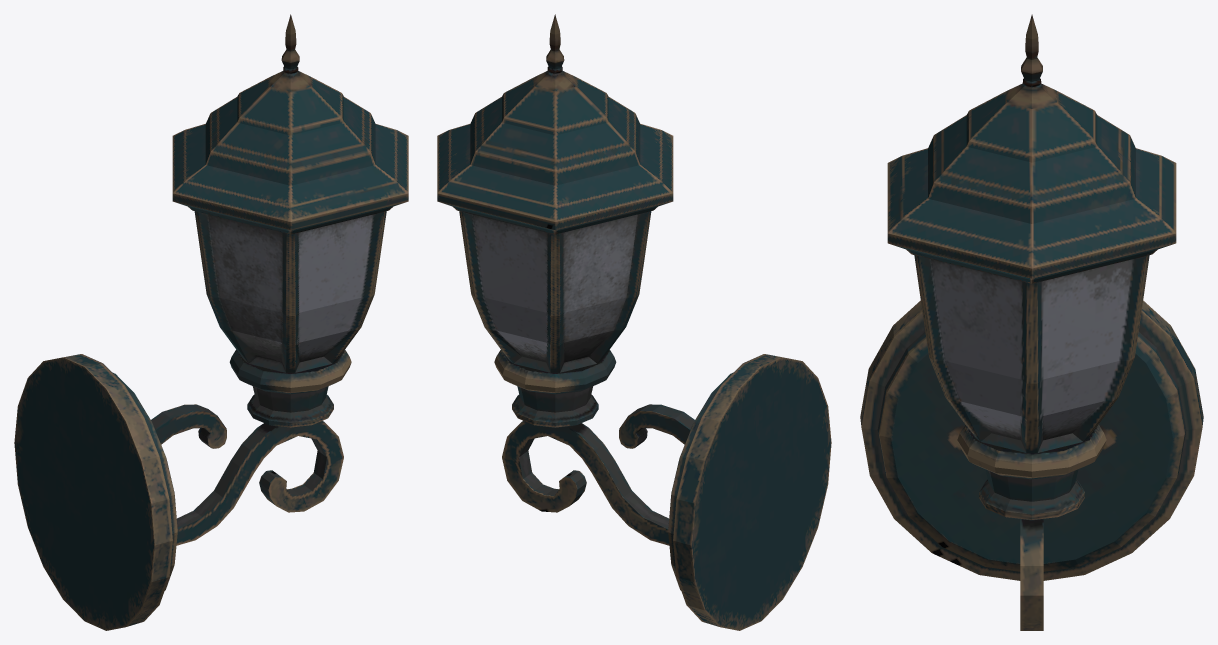
Rendered from SM_ECL_EntranceLights_01.fbx.
The picture shows the model from 3 angles, left to right: view 1: azimuth 30°, elevation 25°; view 2: azimuth 150°, elevation 25°; view 3: azimuth 270°, elevation 25°; orthographic projection. The views are drawn at different scales.
Visible parts, largest first — view 1: SM_ECL_EntranceLights_01.mo; view 2: SM_ECL_EntranceLights_01.mo; view 3: SM_ECL_EntranceLights_01.mo.
Part boxes in pixels (x1,y1,x2,y2): SM_ECL_EntranceLights_01.mo: (14, 14, 408, 630); SM_ECL_EntranceLights_01.mo: (437, 14, 831, 630); SM_ECL_EntranceLights_01.mo: (860, 14, 1203, 630).
Size of the model in its own units: 37.34 by 61.33 by 28.
